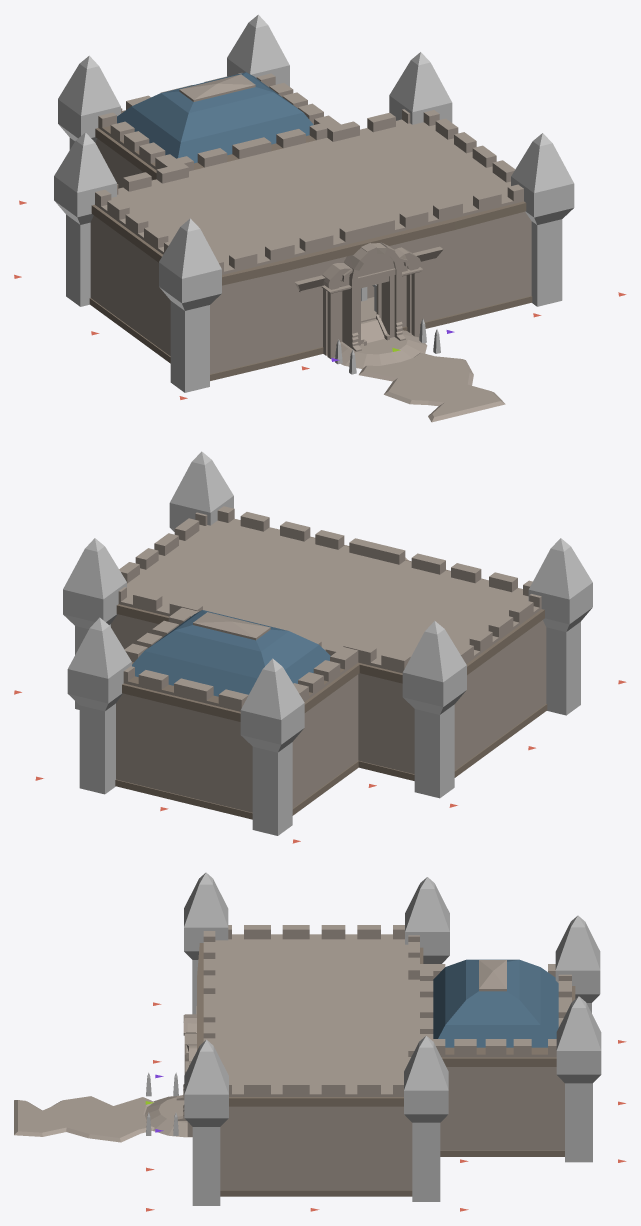
Rendered from tomb3_setup8collision_waypoint_spawnpoint.fbx.
The picture shows the model from 3 angles, top to bottom: view 1: azimuth 30°, elevation 25°; view 2: azimuth 150°, elevation 25°; view 3: azimuth 270°, elevation 25°; orthographic projection. The views are drawn at different scales.
Visible parts, largest first — view 1: Tomb_interior_03_floorplan3collide:body, Tomb_interior_03_floorplan3collide:entrance, Tomb_template_01d_collide:exterior_pillar_INV_(3), Tomb_template_01d_collide:exterior_pillar_(3), Tomb_template_01d_collide:exterior_pillar_INV_(2), Tomb_template_01d_collide:exterior_pillar_INV_(1), Tomb_template_01d_collide:exterior_pillar_(1), Tomb_template_01d_collide:exterior_pillar_(2); view 2: Tomb_interior_03_floorplan3collide:body, Tomb_template_01d_collide:exterior_pillar_INV_(1), Tomb_template_01d_collide:exterior_pillar_INV_(2), Tomb_template_01d_collide:exterior_pillar_(2), Tomb_template_01d_collide:exterior_pillar_INV_(3), Tomb_template_01d_collide:exterior_pillar_(1), Tomb_template_01d_collide:exterior_pillar_(3); view 3: Tomb_interior_03_floorplan3collide:body, Tomb_interior_03_floorplan3collide:entrance, Tomb_template_01d_collide:exterior_pillar_(1), Tomb_template_01d_collide:exterior_pillar_(3), Tomb_template_01d_collide:exterior_pillar_(2), Tomb_template_01d_collide:exterior_pillar_INV_(3), Tomb_template_01d_collide:exterior_pillar_INV_(1), Tomb_template_01d_collide:exterior_pillar_INV_(2).
Boxes of the visible parts, bbox=[...] form: Tomb_interior_03_floorplan3collide:body: bbox=[89, 72, 532, 380]; Tomb_interior_03_floorplan3collide:entrance: bbox=[294, 242, 505, 422]; Tomb_template_01d_collide:exterior_pillar_INV_(3): bbox=[159, 218, 221, 392]; Tomb_template_01d_collide:exterior_pillar_(3): bbox=[511, 133, 574, 306]; Tomb_template_01d_collide:exterior_pillar_INV_(2): bbox=[54, 132, 116, 306]; Tomb_template_01d_collide:exterior_pillar_INV_(1): bbox=[58, 55, 120, 149]; Tomb_template_01d_collide:exterior_pillar_(1): bbox=[389, 52, 452, 124]; Tomb_template_01d_collide:exterior_pillar_(2): bbox=[227, 14, 289, 86]; Tomb_interior_03_floorplan3collide:body: bbox=[111, 506, 547, 819]; Tomb_template_01d_collide:exterior_pillar_INV_(1): bbox=[240, 658, 304, 835]; Tomb_template_01d_collide:exterior_pillar_INV_(2): bbox=[402, 621, 466, 798]; Tomb_template_01d_collide:exterior_pillar_(2): bbox=[67, 617, 131, 794]; Tomb_template_01d_collide:exterior_pillar_INV_(3): bbox=[528, 538, 592, 715]; Tomb_template_01d_collide:exterior_pillar_(1): bbox=[63, 538, 126, 709]; Tomb_template_01d_collide:exterior_pillar_(3): bbox=[169, 451, 233, 531]; Tomb_interior_03_floorplan3collide:body: bbox=[197, 925, 575, 1196]; Tomb_interior_03_floorplan3collide:entrance: bbox=[14, 1006, 196, 1142]; Tomb_template_01d_collide:exterior_pillar_(1): bbox=[404, 1035, 448, 1201]; Tomb_template_01d_collide:exterior_pillar_(3): bbox=[184, 1039, 228, 1205]; Tomb_template_01d_collide:exterior_pillar_(2): bbox=[556, 996, 601, 1162]; Tomb_template_01d_collide:exterior_pillar_INV_(3): bbox=[184, 872, 228, 1014]; Tomb_template_01d_collide:exterior_pillar_INV_(1): bbox=[555, 915, 600, 1012]; Tomb_template_01d_collide:exterior_pillar_INV_(2): bbox=[405, 877, 449, 963].
Size of the model in its own units: 33234 by 11931 by 41127.
